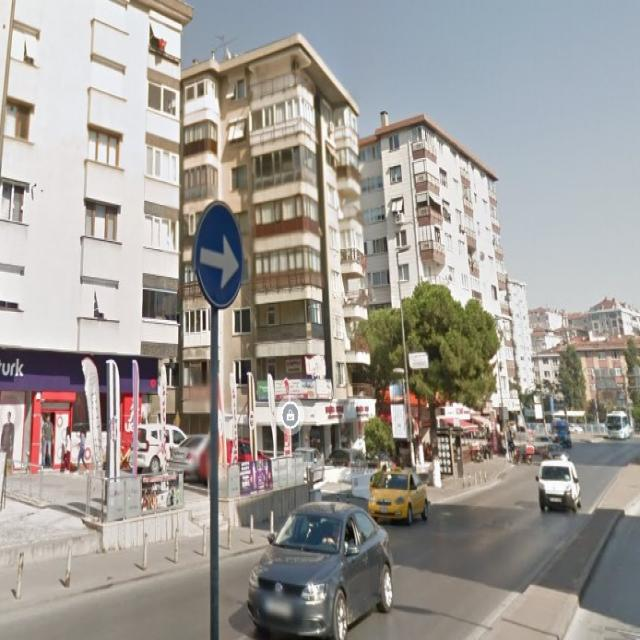Turn Right: (192, 200, 248, 311)
